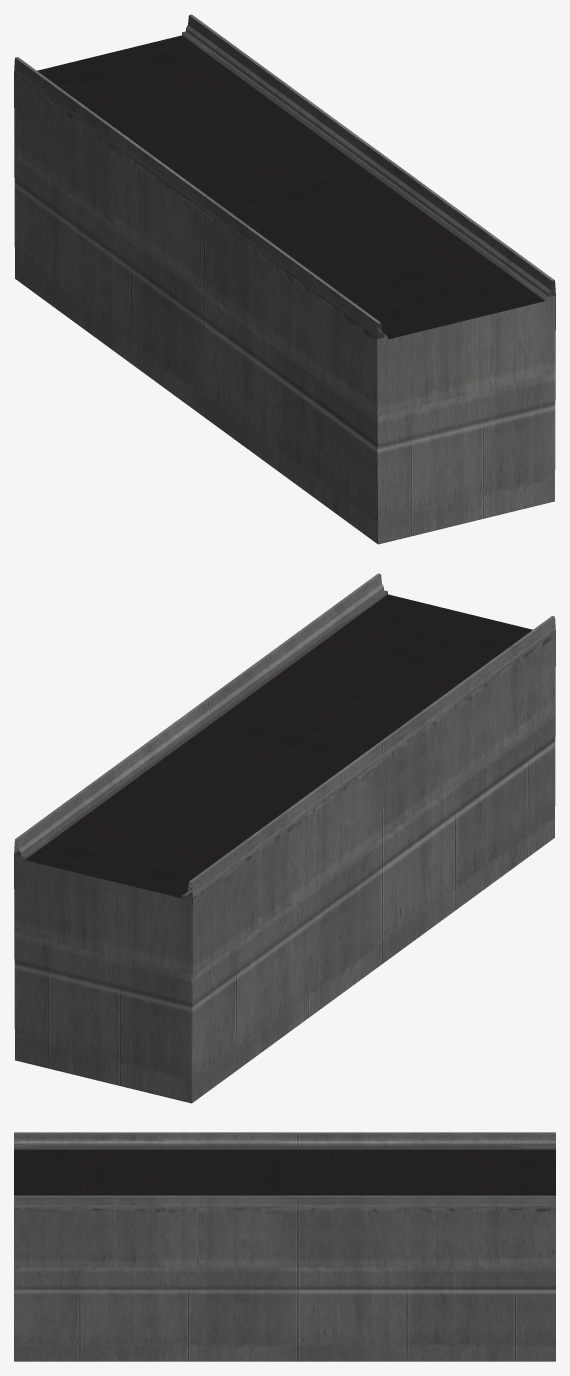
Rendered from RJs_Road Slim 2+2 Elevated Node_lod.fbx.
3 renders of one model, top to bottom at view 1: azimuth 30°, elevation 25°; view 2: azimuth 150°, elevation 25°; view 3: azimuth 270°, elevation 25°, orthographic. The views are drawn at different scales.
Parts seen in each view (by area): view 1: plane_lod; view 2: plane_lod; view 3: plane_lod.
Boxes of the visible parts, x1,y1,x2,y2 form: plane_lod: [14, 14, 555, 544]; plane_lod: [14, 573, 555, 1103]; plane_lod: [14, 1132, 555, 1361].
Bounding box in the file's own units: 1820 × 2150 × 6400.
